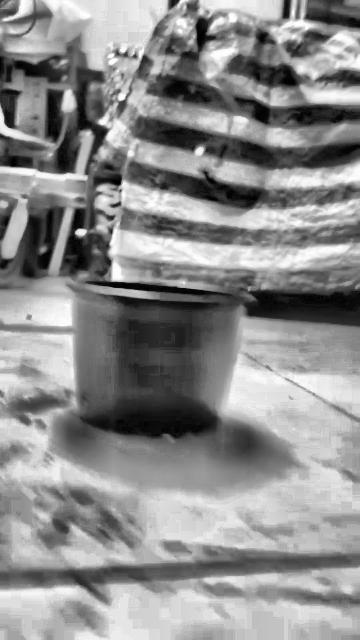pot: (65, 279, 244, 435)
